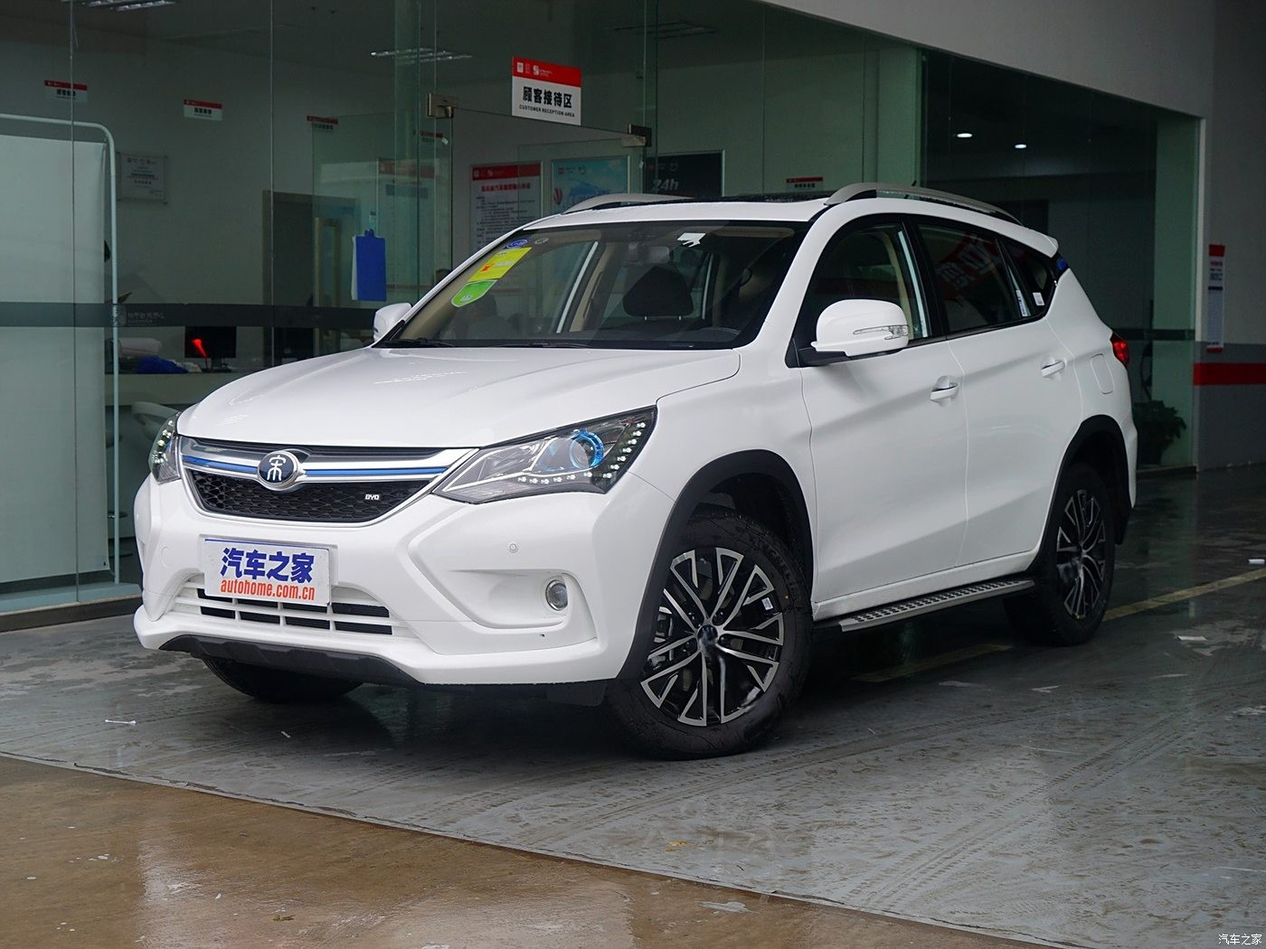BYD Song: (260, 454, 294, 483)
